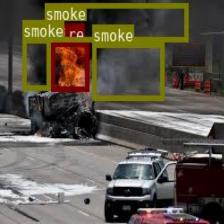fire: (51, 41, 88, 90)
smoke: (45, 3, 188, 41), (92, 42, 164, 99), (22, 38, 49, 89)
